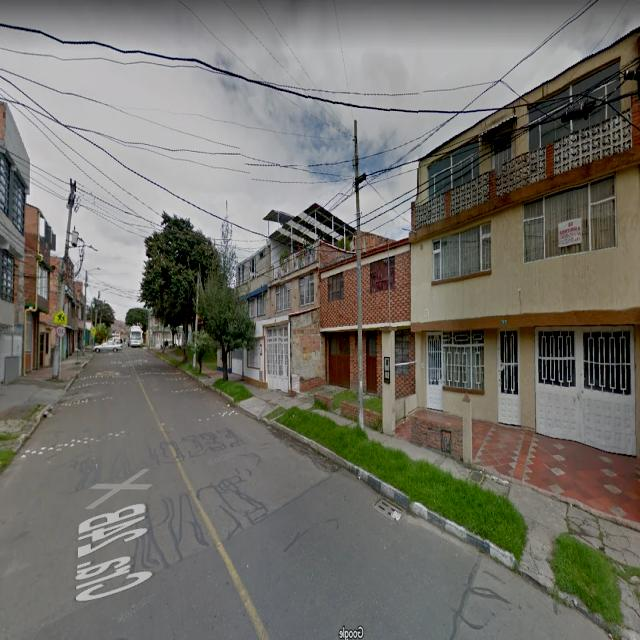fachada: (408, 30, 639, 455), (230, 204, 355, 392), (361, 237, 414, 398), (0, 102, 29, 383), (23, 204, 55, 371), (39, 256, 77, 360)
poste: (354, 120, 363, 428), (57, 181, 75, 310), (192, 270, 199, 369), (81, 270, 87, 354)
